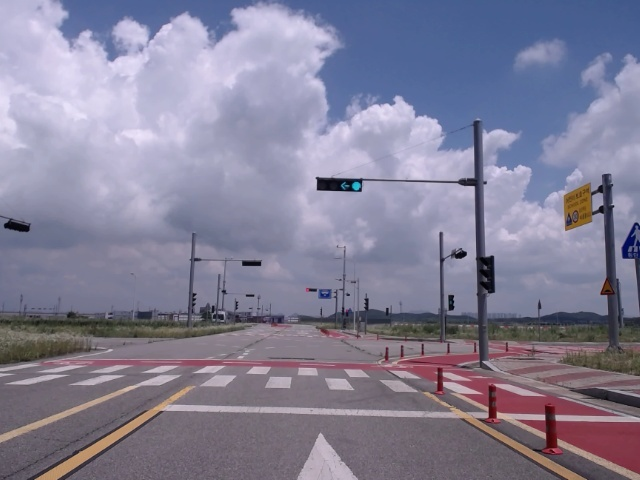all_green_4: (313, 178, 365, 193)
